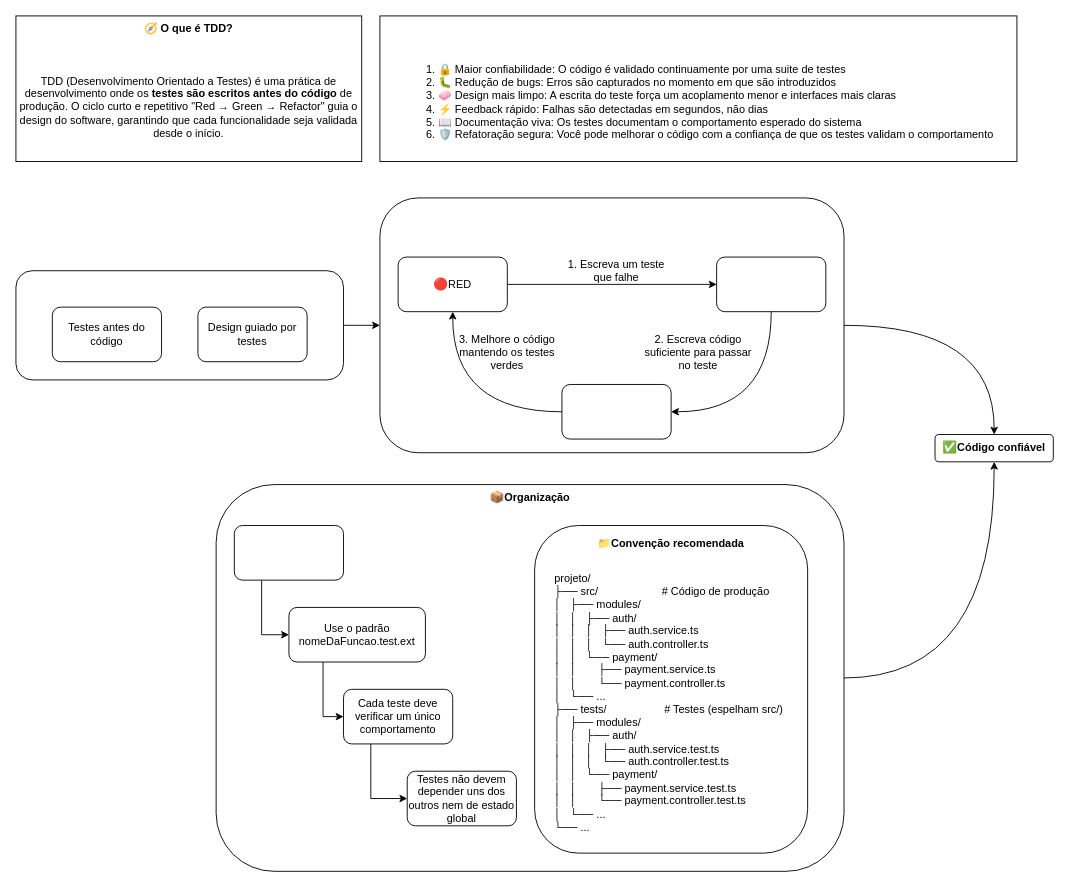
Image size: 1069x887. Some labels were removed from this diagram. The shapes that lost their labels are listed below. From the top down, each one's box as (x1, y1, x2, y2) in pixels, then its label:
(379, 15, 1017, 162): ✅ Benefícios do TDD
(716, 256, 826, 312): 🟢 GREEN
(15, 270, 344, 380): 🧠 Filosofia
(379, 197, 844, 453): 🔄 Ciclo
(561, 384, 671, 439): 🔵 REFACTOR
(233, 525, 344, 580): Cada módulo tem sua pasta de testes correspondente
